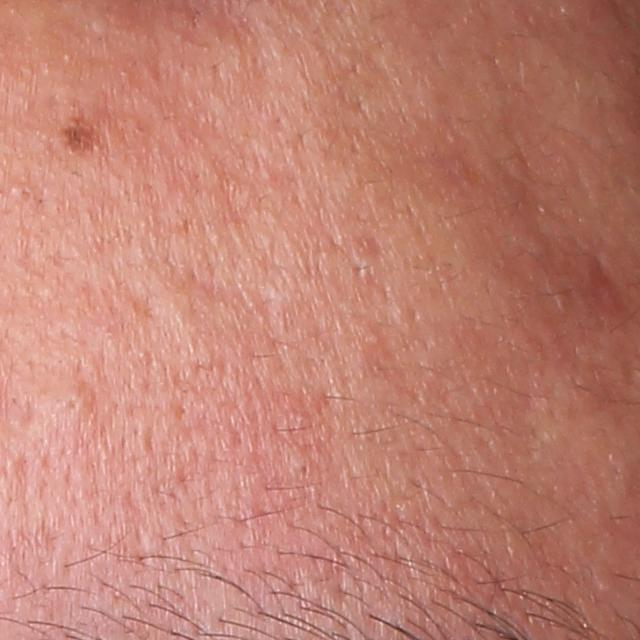comedo: (59, 393, 88, 415), (13, 183, 36, 203), (294, 459, 314, 476)
nevus: (55, 112, 107, 161)
